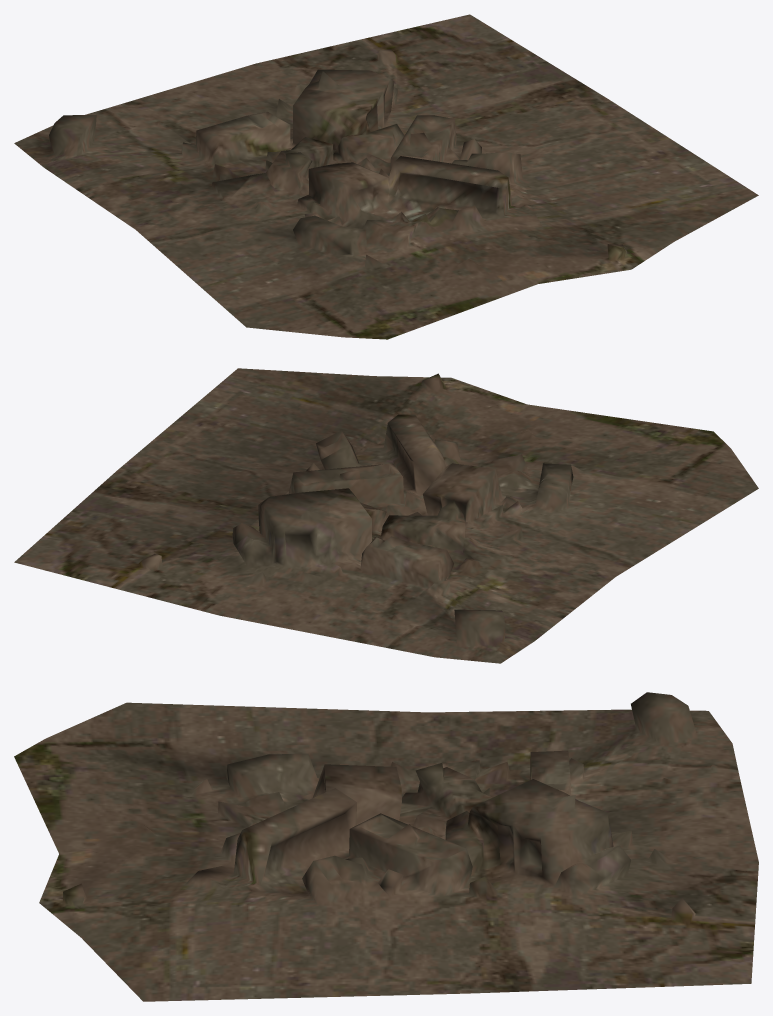
File: Rubbles_09.fbx
The picture shows the model from 3 angles, top to bottom: view 1: azimuth 30°, elevation 25°; view 2: azimuth 150°, elevation 25°; view 3: azimuth 270°, elevation 25°; orthographic projection. The views are drawn at different scales.
Parts seen in each view (by area): view 1: Rubble_Decal_01_LOD0:Rubble_Decal_01_LOD0_0; view 2: Rubble_Decal_01_LOD0:Rubble_Decal_01_LOD0_0; view 3: Rubble_Decal_01_LOD0:Rubble_Decal_01_LOD0_0.
Part boxes in pixels (box(x1,y1,x2,y2)): Rubble_Decal_01_LOD0:Rubble_Decal_01_LOD0_0: box(14, 14, 758, 339); Rubble_Decal_01_LOD0:Rubble_Decal_01_LOD0_0: box(14, 368, 758, 663); Rubble_Decal_01_LOD0:Rubble_Decal_01_LOD0_0: box(14, 692, 758, 1001).
Bounding box in the file's own units: 12.57 × 1.2 × 13.22.
Materials: 1 (1 with a texture image).
